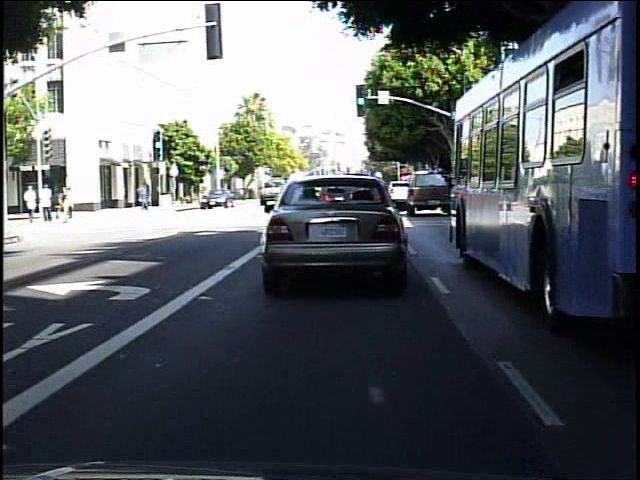person: (21, 180, 38, 223), (38, 182, 54, 223), (134, 179, 152, 214), (55, 183, 70, 222), (52, 187, 63, 221), (64, 182, 65, 221)
